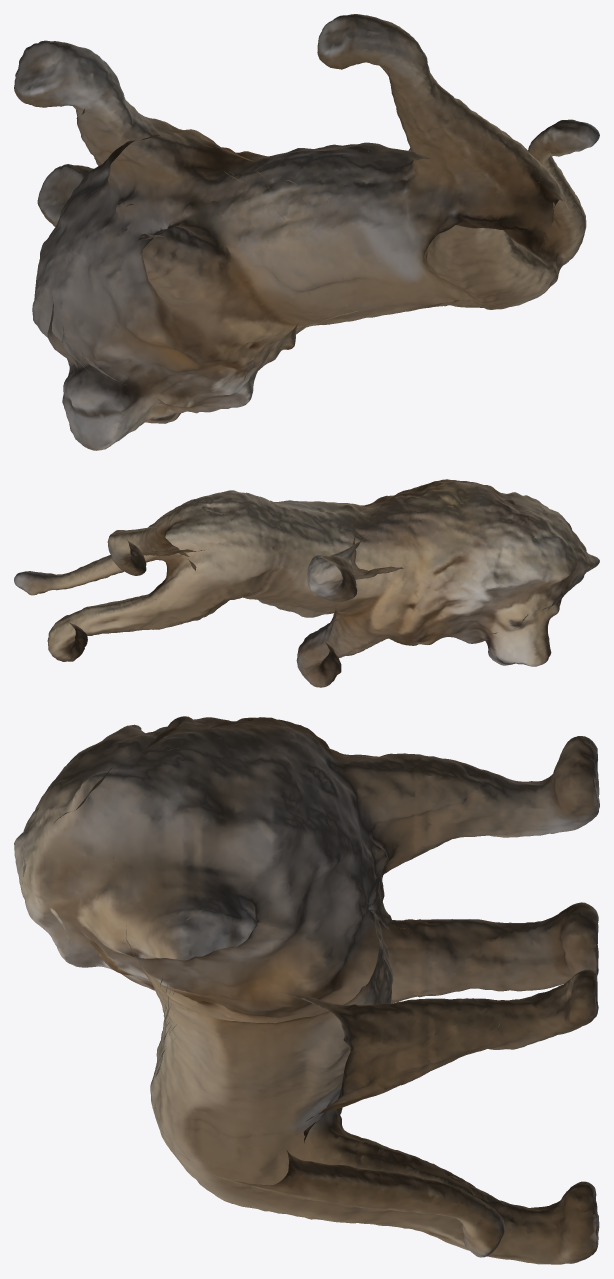
The model's file is lion.glb.
3 views of the same model, one above another, from view 1: azimuth 30°, elevation 25°; view 2: azimuth 150°, elevation 25°; view 3: azimuth 270°, elevation 25° (orthographic). The views are drawn at different scales.
Size of the model in its own units: 1 by 0.3595 by 0.6346.
